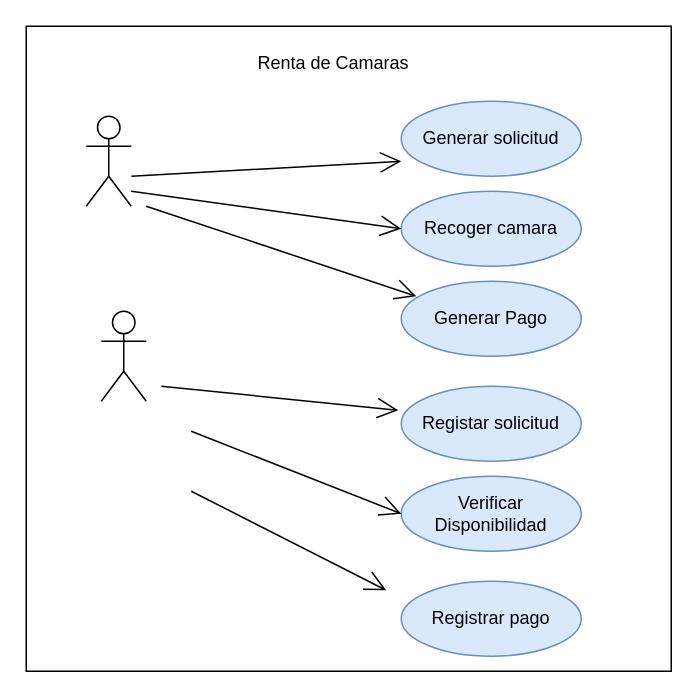
This 698x698 diagram has some shape labels left out. The centre of each missing label's shape, as x and y in pixels:
"Cliente" belongs at [108,160].
"Empleado Agencia" belongs at [123,355].
